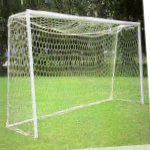goals: (4, 7, 147, 140)
